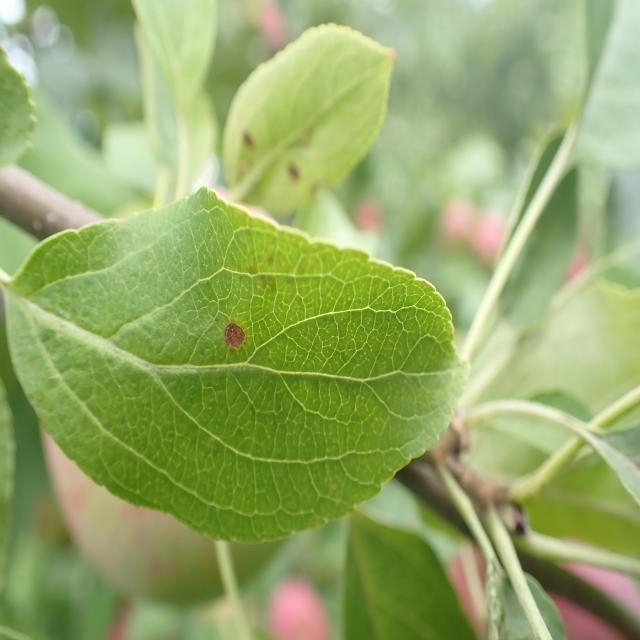Black Rot: (212, 306, 252, 364)
